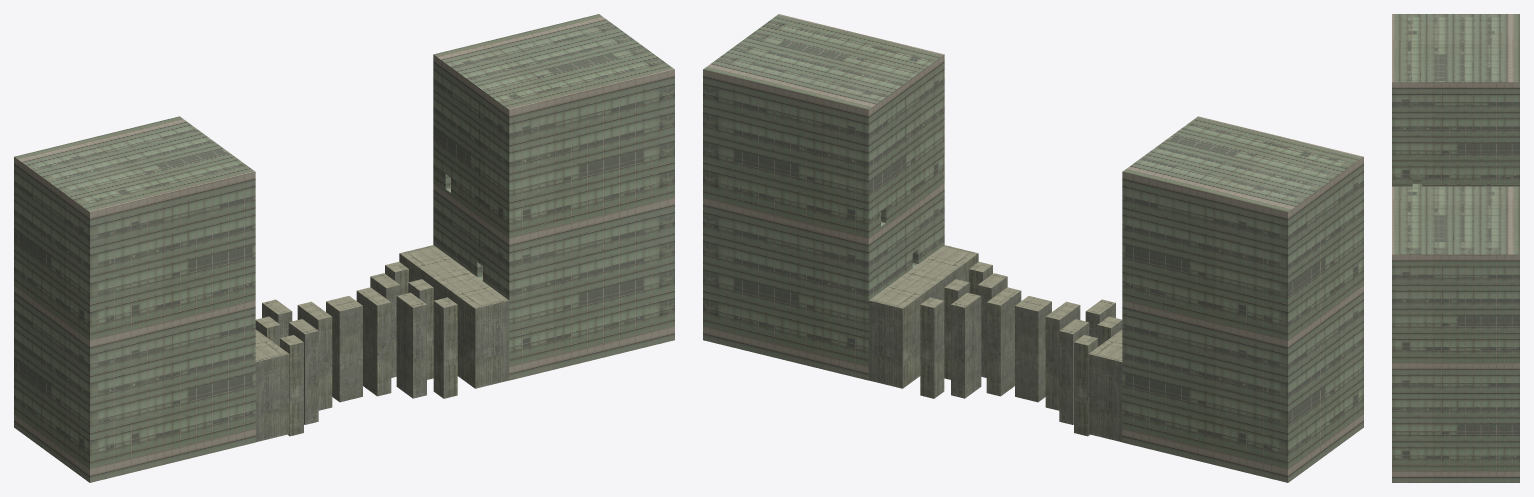
The model's file is SM_NeoLD_06_Block_00.fbx.
The picture shows the model from 3 angles, left to right: view 1: azimuth 30°, elevation 25°; view 2: azimuth 150°, elevation 25°; view 3: azimuth 270°, elevation 25°; orthographic projection. The views are drawn at different scales.
Visible parts, largest first — view 1: SM_NeoLD_06_Block_00; view 2: SM_NeoLD_06_Block_00; view 3: SM_NeoLD_06_Block_00.
Part boxes in pixels (box(x1,y1,x2,y2)): SM_NeoLD_06_Block_00: box(14, 14, 674, 482); SM_NeoLD_06_Block_00: box(703, 14, 1363, 482); SM_NeoLD_06_Block_00: box(1392, 14, 1519, 482).
Size of the model in its own units: 14227 by 6539 by 3191.
